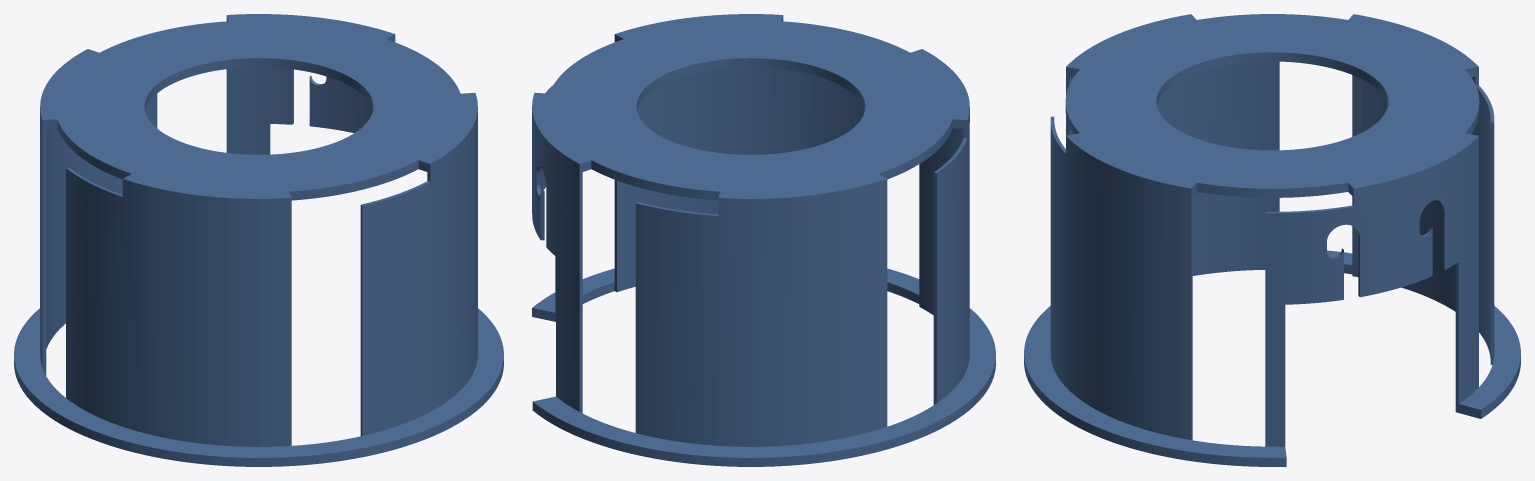
File: moon-lamp.glb
3 renders of one model, left to right at view 1: azimuth 30°, elevation 25°; view 2: azimuth 150°, elevation 25°; view 3: azimuth 270°, elevation 25°, orthographic.
Parts seen in each view (by area): view 1: moon-lamp.tmp; view 2: moon-lamp.tmp; view 3: moon-lamp.tmp.
Boxes of the visible parts, x1=… form: moon-lamp.tmp: x1=14, y1=14, x2=503, y2=466; moon-lamp.tmp: x1=532, y1=14, x2=995, y2=466; moon-lamp.tmp: x1=1024, y1=14, x2=1520, y2=466.
Size of the model in its own units: 98.5 by 57 by 98.47.
